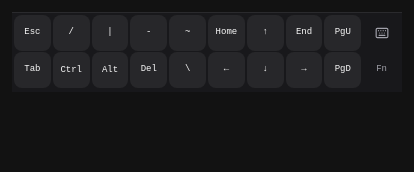
Test case: MobileTerminalKeybar › sends keybar navigation with combined xterm modifiers and consumes accepted once states
The width and height of the screenshot is (414, 172).
Click the button with aria-label "Ctrl modifier: off. Next: once" at (71, 70), box [53,52,90,88]
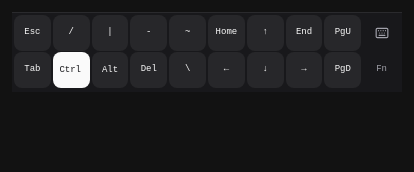
Click the button with aria-label "Alt modifier: off. Next: once" at (110, 70), box [92,52,128,88]
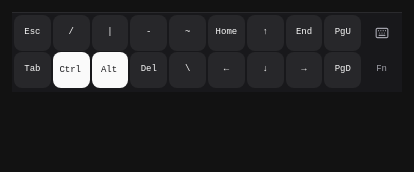
Click the button "↑" at (265, 33), box [247,15,284,51]
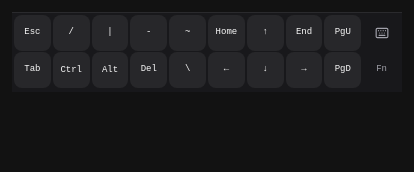
Now the button with aria-label "Ctrl modifier: off. Next: once" is shown, box [53,52,90,88]
Now the button with aria-label "Alt modifier: off. Next: once" is shown, box [92,52,128,88]
